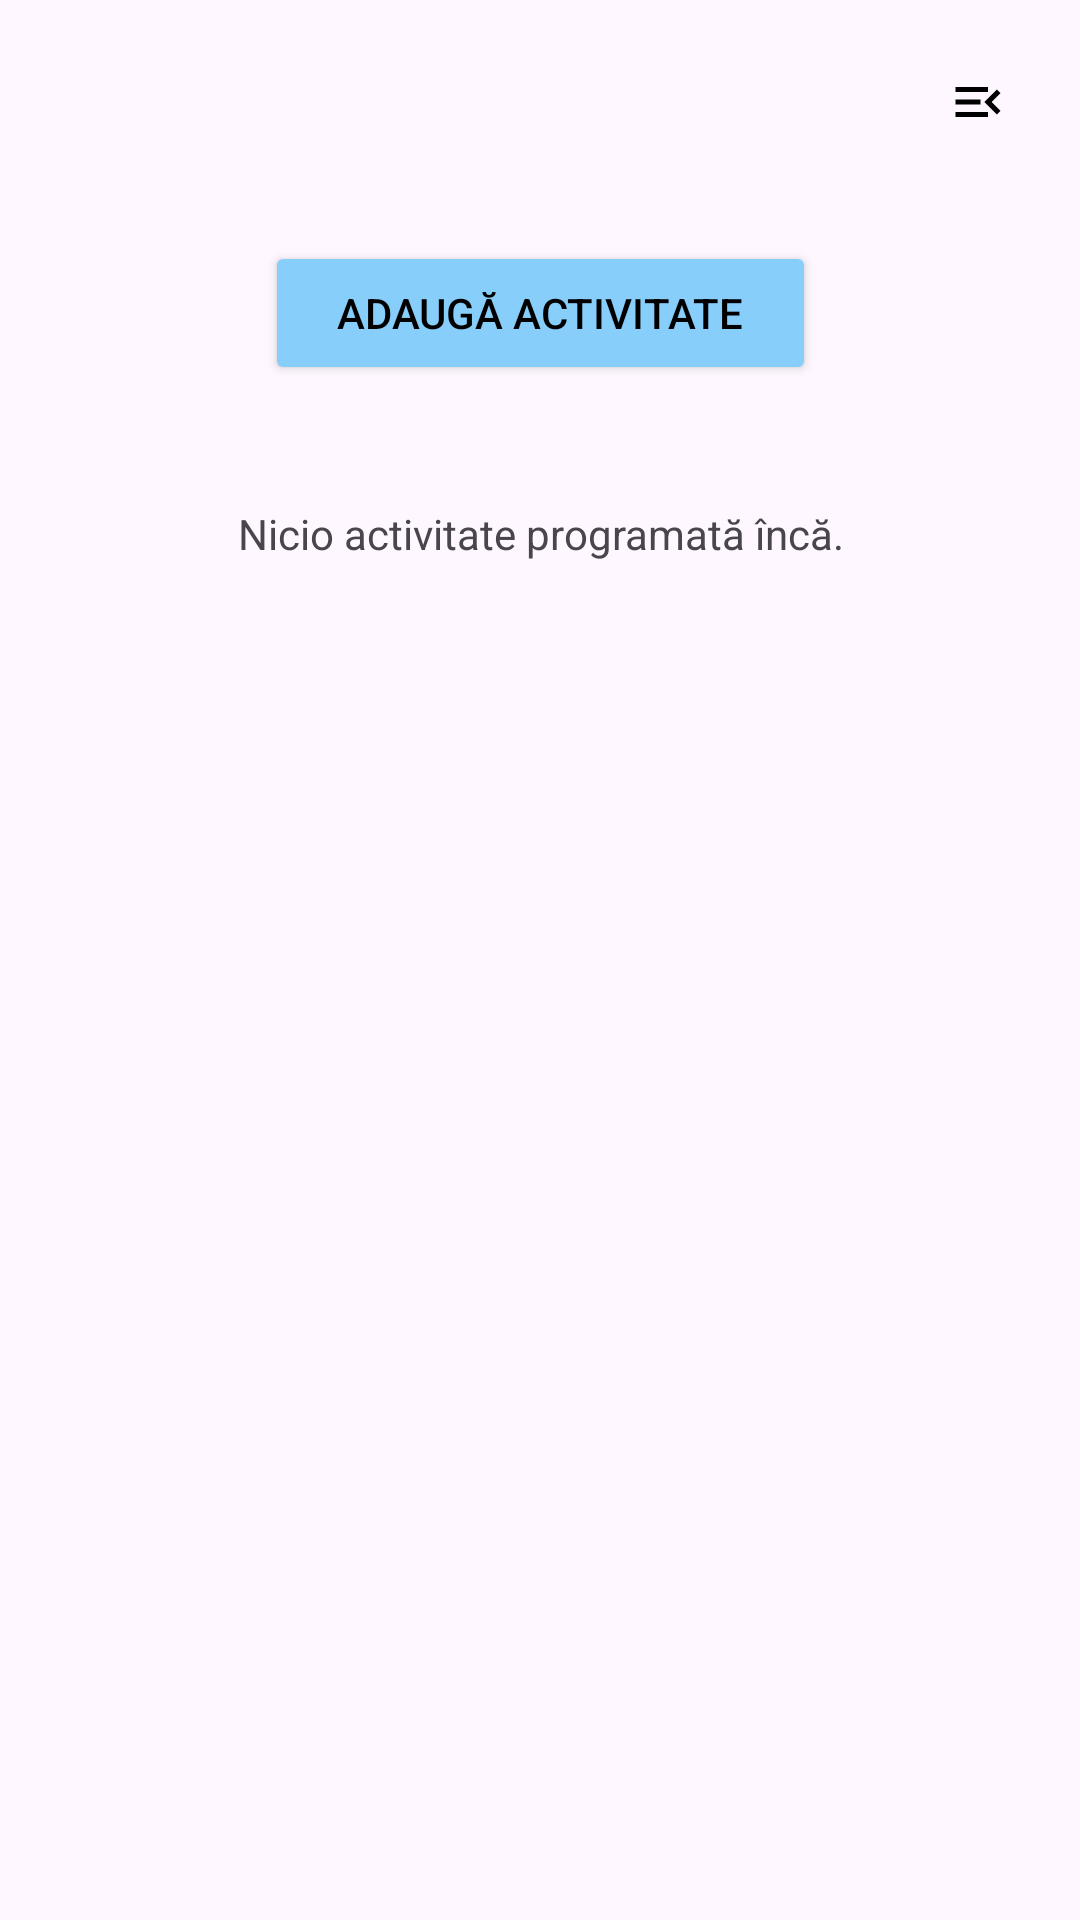

Named icons in this screenshot (1080 x 1920) and their centers, point (x, y):
Meniu Optiuni: point (978, 102)
